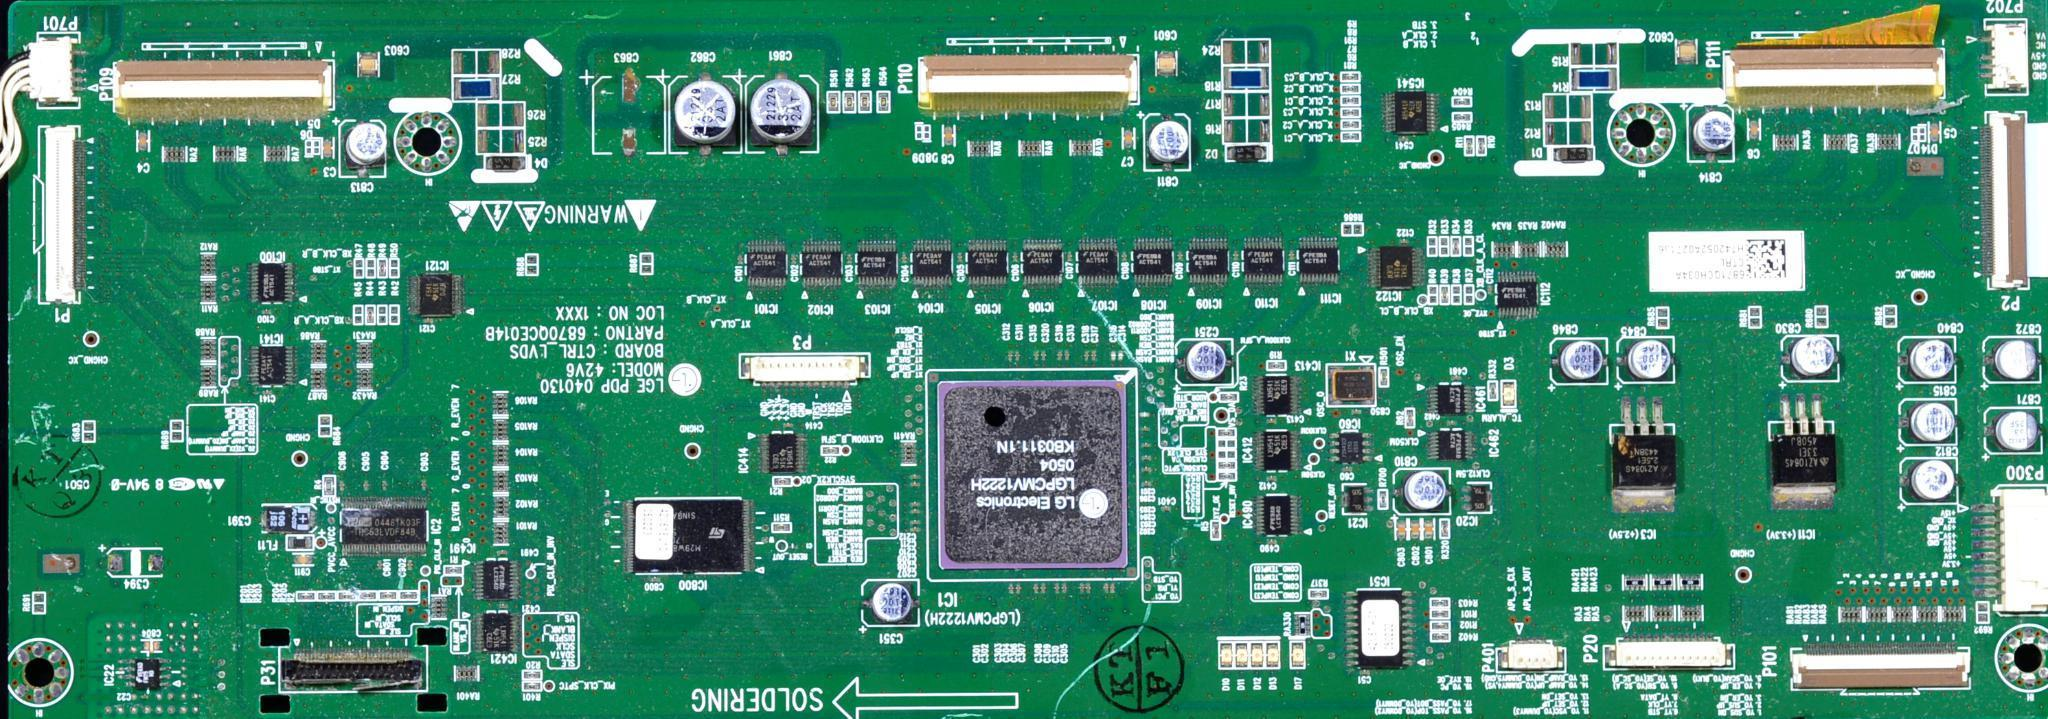Capacitor Jumper: (750, 78, 818, 149), (677, 73, 741, 146), (1396, 469, 1452, 516), (346, 120, 391, 176), (1556, 341, 1612, 386), (1145, 116, 1192, 169), (1691, 107, 1737, 159), (1904, 337, 1957, 383), (1787, 337, 1843, 379), (1179, 341, 1232, 383), (1992, 339, 2040, 383), (1991, 410, 2041, 451), (1908, 460, 1958, 501), (869, 584, 920, 624), (1911, 401, 1957, 442), (1627, 343, 1674, 380), (263, 506, 317, 533), (108, 550, 165, 577), (1156, 47, 1178, 78), (360, 50, 381, 78), (1678, 41, 1695, 64), (1748, 118, 1763, 142), (942, 124, 956, 150), (138, 132, 152, 156), (1930, 124, 1944, 146), (1422, 520, 1435, 541), (293, 554, 315, 566), (1396, 522, 1409, 540), (323, 140, 334, 159), (1411, 522, 1422, 541), (1125, 129, 1134, 153), (141, 642, 163, 650), (1142, 465, 1155, 475), (1142, 480, 1155, 489), (1091, 348, 1098, 362), (1006, 352, 1016, 362), (1081, 350, 1091, 362), (910, 519, 921, 528), (1140, 454, 1152, 461), (421, 480, 428, 492), (380, 480, 388, 492), (338, 481, 346, 493), (376, 560, 384, 570), (1032, 583, 1040, 594), (363, 480, 370, 492), (1057, 350, 1064, 359), (1016, 350, 1023, 361), (1142, 443, 1155, 448), (909, 475, 922, 480), (910, 510, 921, 516), (910, 528, 923, 533), (1055, 583, 1062, 594), (1008, 583, 1015, 594), (1041, 583, 1048, 594), (909, 482, 921, 488), (910, 503, 922, 509), (408, 560, 413, 571), (1041, 350, 1048, 359), (1033, 350, 1040, 359), (1062, 584, 1068, 594), (1016, 584, 1023, 594), (1080, 583, 1085, 594), (1087, 583, 1092, 594), (1105, 583, 1110, 594), (1064, 352, 1071, 359), (1142, 427, 1151, 433), (1162, 507, 1172, 512), (1112, 584, 1115, 594)
Connector: (1725, 44, 1947, 111), (914, 54, 1145, 115), (112, 59, 333, 119), (1981, 109, 2048, 295), (1789, 639, 1975, 695), (1972, 488, 2048, 616), (40, 125, 94, 306), (281, 646, 427, 692), (1607, 633, 1738, 673), (1981, 14, 2032, 98), (27, 35, 81, 111), (744, 354, 869, 386), (1501, 641, 1569, 672)
IC: (927, 373, 1138, 582), (624, 495, 754, 577), (1604, 395, 1680, 516), (1768, 393, 1846, 512), (1344, 586, 1417, 673), (340, 498, 431, 558), (1381, 90, 1439, 139), (408, 272, 466, 320), (1294, 237, 1345, 288), (1251, 493, 1304, 543), (906, 238, 955, 290), (1240, 237, 1288, 288), (1185, 239, 1236, 288), (1371, 244, 1424, 290), (1496, 272, 1543, 322), (1021, 237, 1068, 285), (744, 239, 792, 288), (799, 239, 846, 288), (854, 239, 901, 288), (967, 237, 1011, 288), (1254, 427, 1301, 475), (249, 345, 298, 391), (249, 260, 295, 307), (475, 609, 521, 656), (1253, 376, 1302, 420), (760, 430, 807, 475), (474, 557, 522, 600), (1134, 239, 1178, 285), (1425, 382, 1479, 417), (1078, 243, 1121, 285), (1430, 426, 1477, 461), (124, 658, 172, 692), (1327, 430, 1371, 464), (1341, 484, 1375, 518), (1463, 482, 1494, 514)
Resistor Jumper: (1544, 95, 1592, 122), (1224, 120, 1273, 145), (1223, 39, 1272, 64), (1224, 65, 1273, 89), (1544, 122, 1593, 145), (1224, 93, 1271, 116), (1571, 43, 1618, 67), (455, 78, 503, 101), (1573, 71, 1617, 92), (82, 420, 97, 444), (1656, 307, 1669, 329), (317, 417, 332, 437), (1441, 516, 1452, 540), (1816, 307, 1829, 328), (844, 92, 857, 111), (1220, 392, 1240, 405), (1977, 604, 1991, 624), (861, 92, 872, 112), (640, 254, 652, 275), (324, 476, 334, 498), (171, 422, 183, 442), (298, 591, 317, 603), (1883, 309, 1896, 326), (1750, 309, 1761, 329), (880, 92, 891, 111), (526, 255, 537, 275), (366, 259, 376, 278), (34, 594, 44, 613), (1432, 631, 1451, 642), (1381, 367, 1390, 390), (1407, 408, 1416, 430), (829, 92, 839, 112), (1219, 429, 1237, 439), (1309, 590, 1330, 599), (398, 592, 419, 601), (1455, 99, 1475, 109), (391, 305, 400, 324), (367, 306, 376, 326), (822, 447, 841, 456), (773, 478, 793, 488), (773, 524, 793, 533), (358, 592, 377, 601), (1432, 597, 1451, 607), (1465, 139, 1475, 157), (377, 307, 387, 326), (1432, 610, 1450, 620), (1433, 622, 1451, 631), (354, 305, 362, 326), (1343, 73, 1360, 82), (1341, 95, 1358, 105), (1455, 115, 1472, 124), (1479, 139, 1488, 156), (1219, 460, 1236, 469), (1219, 472, 1236, 481), (1343, 110, 1362, 118), (1343, 122, 1362, 129), (355, 259, 363, 278), (391, 259, 398, 278), (1381, 492, 1388, 511), (338, 592, 358, 600), (379, 592, 398, 600), (522, 671, 542, 678), (524, 682, 542, 690), (1344, 133, 1362, 141), (1452, 239, 1462, 255), (1268, 363, 1287, 371), (317, 594, 336, 601), (379, 260, 387, 277), (1343, 86, 1361, 93)
